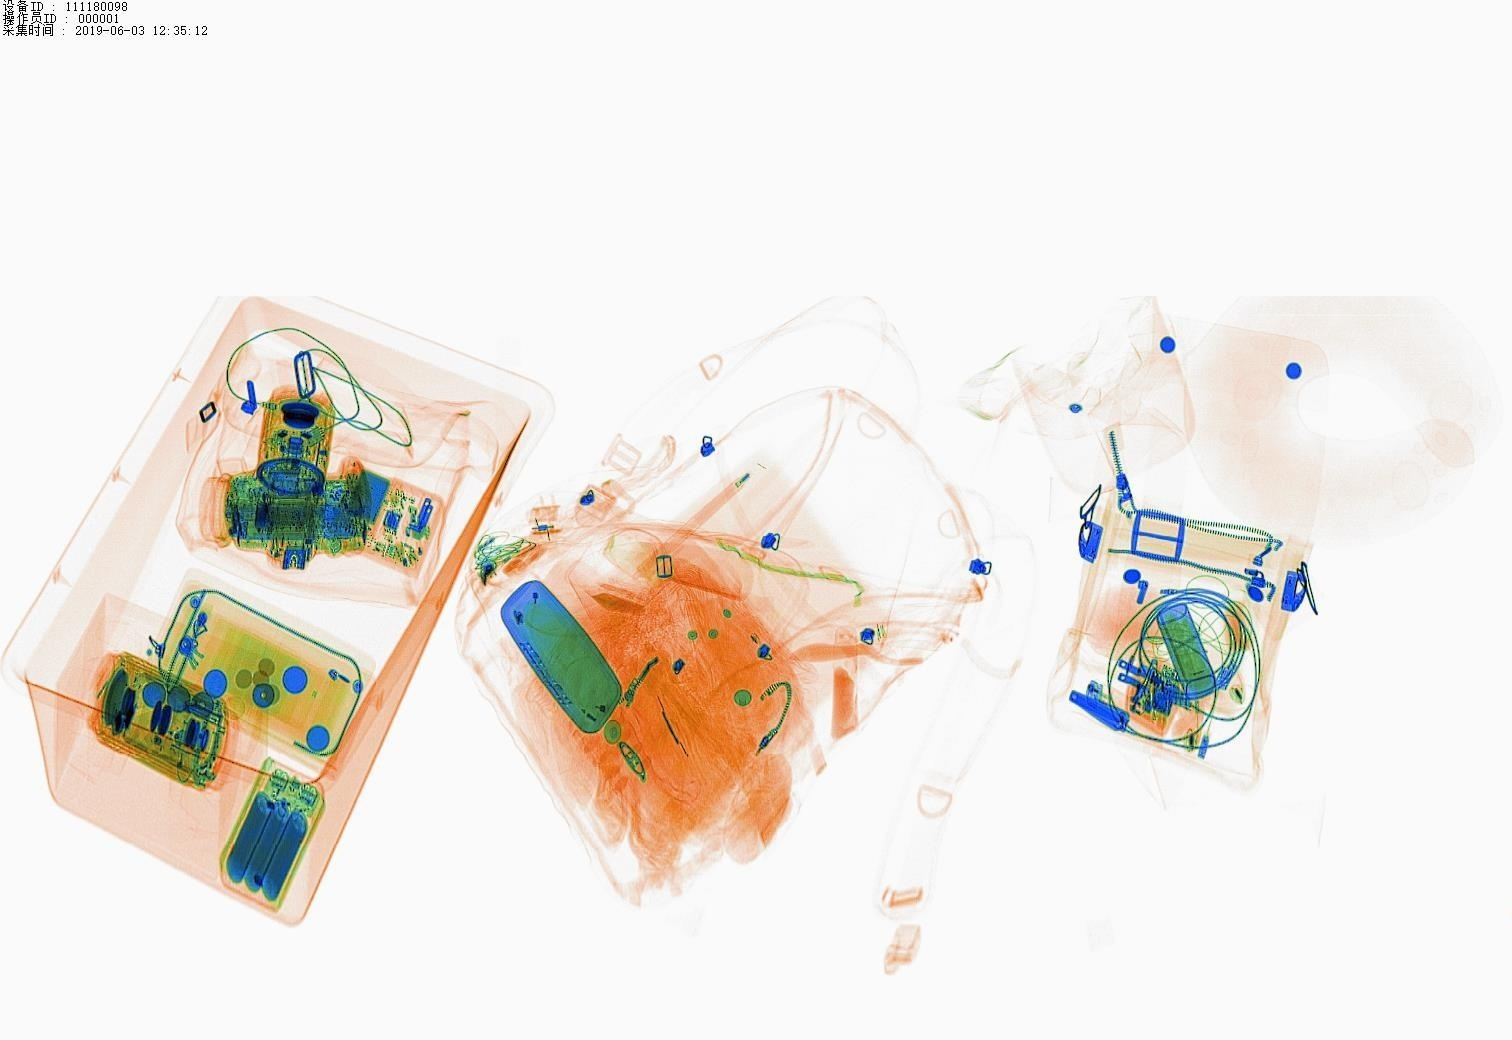NonmetallicFire: (1077, 667, 1177, 750)
